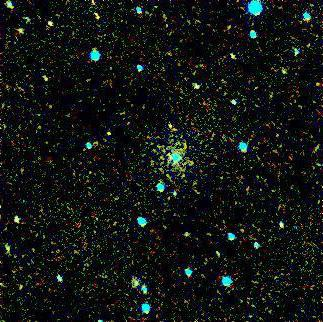star: (82, 131, 112, 161)
